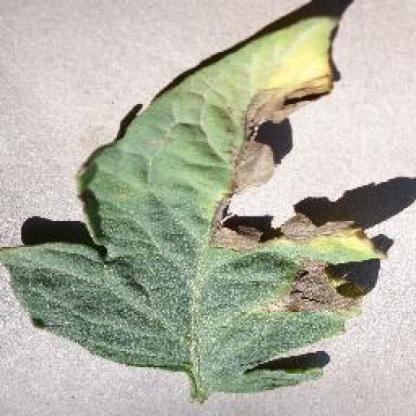Strawberry_Angular_LeafSpot: (274, 263, 358, 314), (243, 76, 330, 124), (202, 218, 267, 249), (238, 141, 276, 187)
